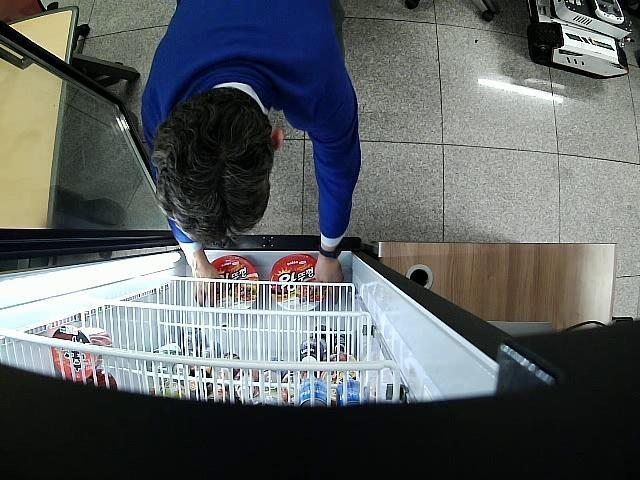10_wangTtukkeong: (270, 256, 326, 310), (210, 256, 258, 310)
